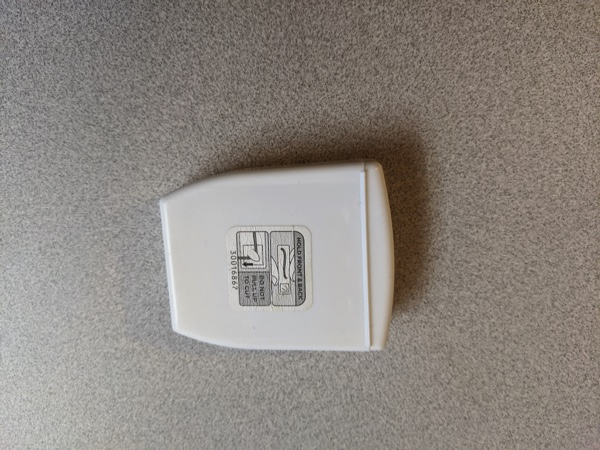plastic: (143, 148, 412, 371)
